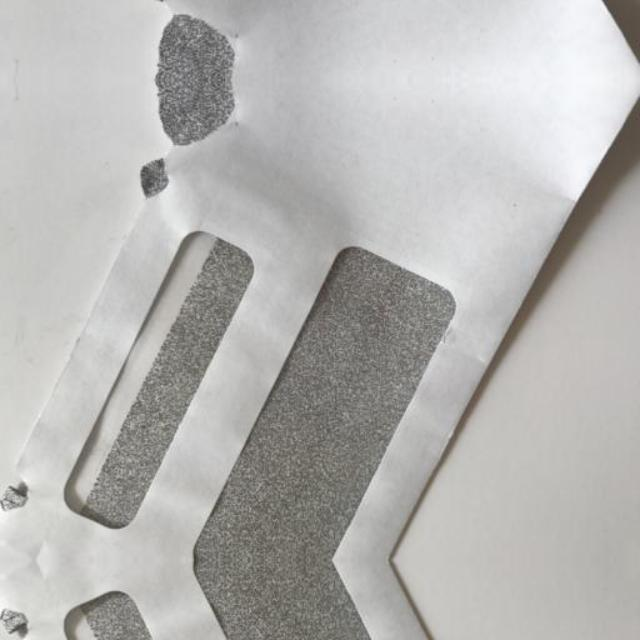paper: (0, 79, 638, 558), (0, 0, 638, 80), (0, 561, 638, 640)
